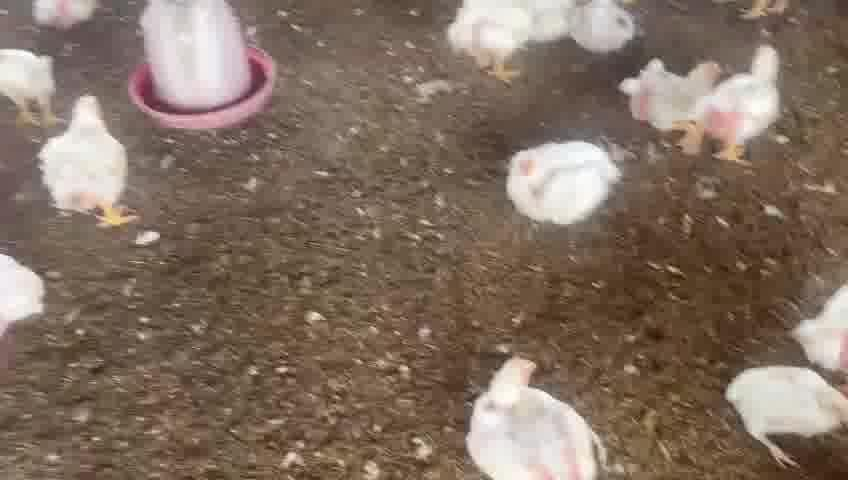AbNormal: (721, 350, 848, 471)
Normal: (457, 352, 630, 480), (38, 91, 146, 231), (501, 136, 630, 229), (696, 48, 794, 161), (439, 0, 554, 80), (625, 49, 726, 134)
